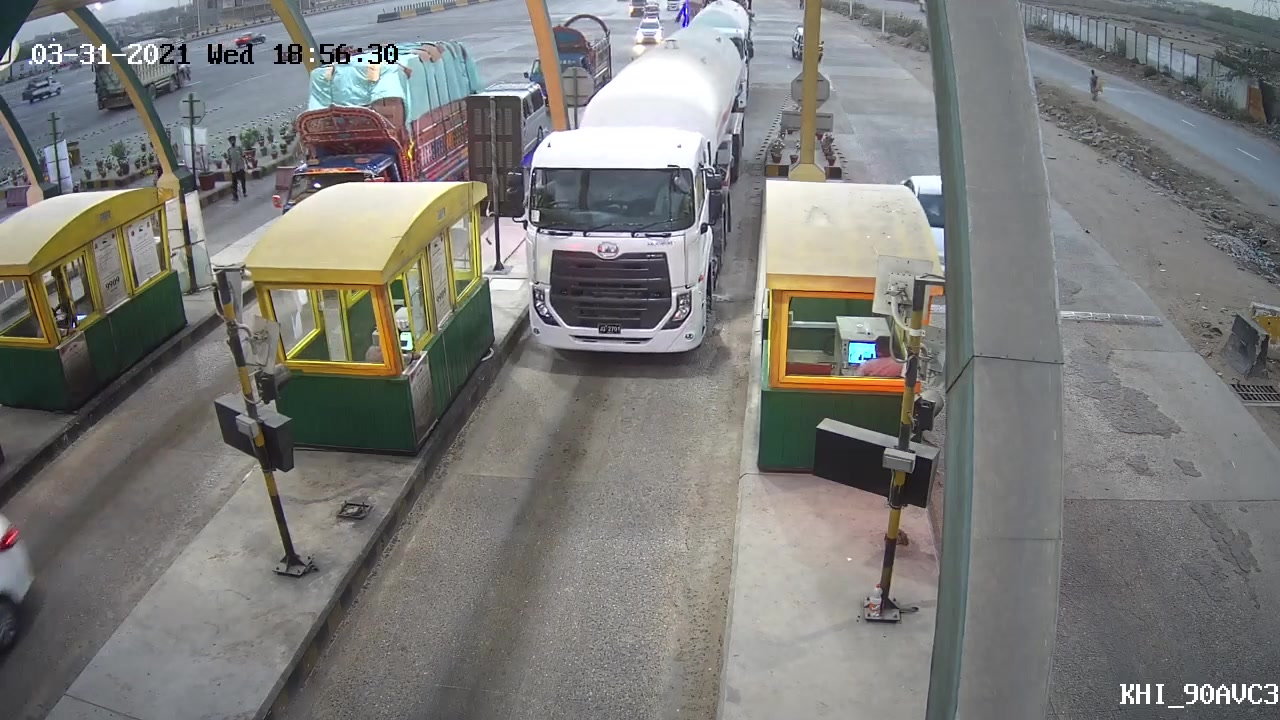F6: (512, 30, 755, 366)
